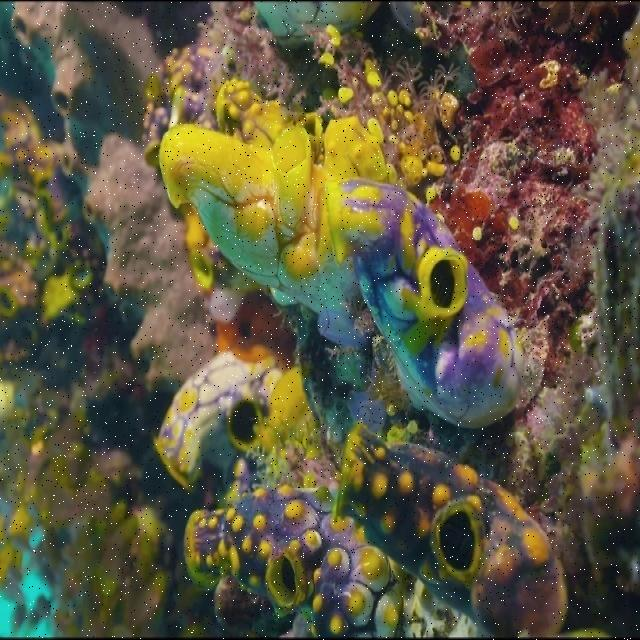reefs: (151, 291, 568, 638), (158, 78, 524, 429), (12, 1, 215, 393)
